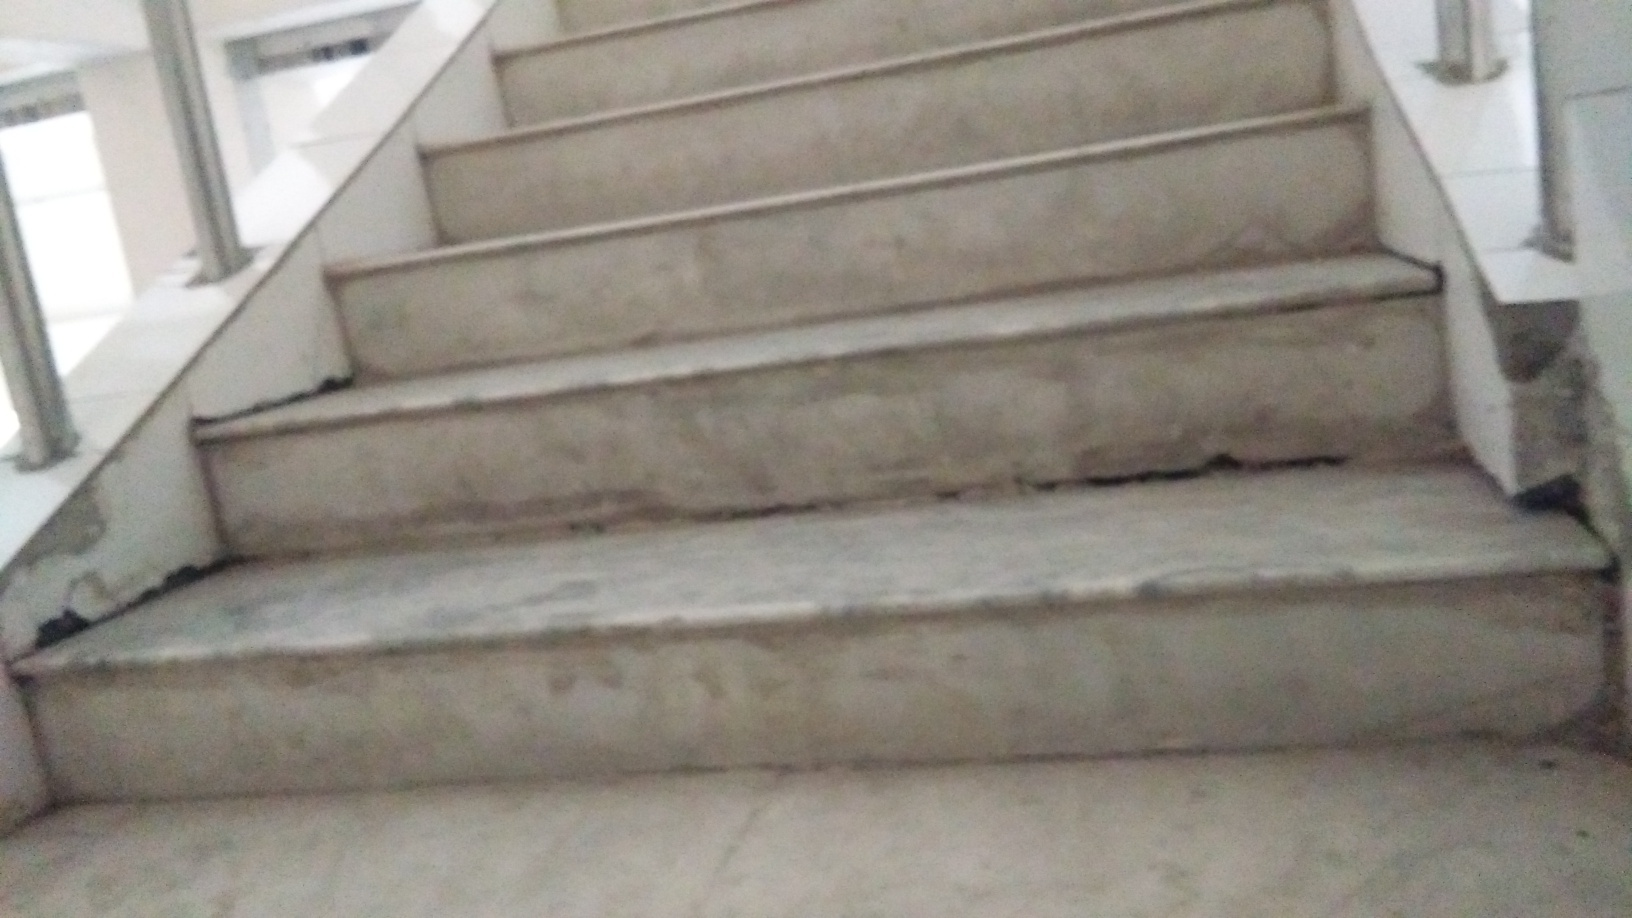stairs_up: (68, 20, 1502, 786)
